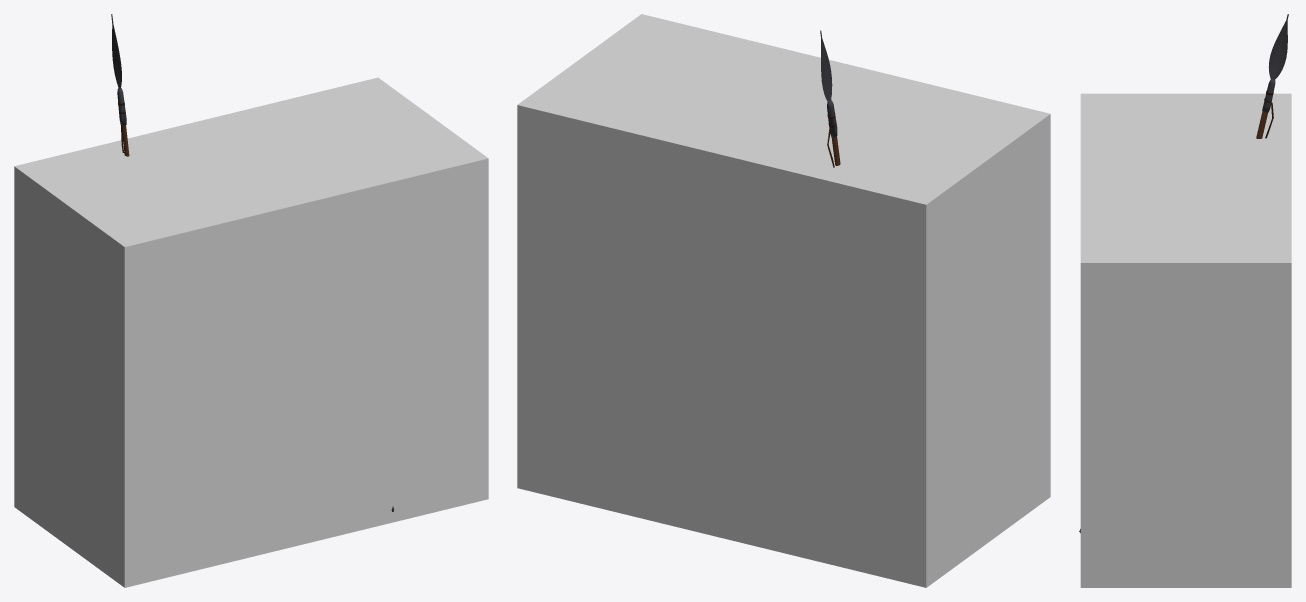
The model's file is weapon_rack_intact.glb.
3 views of the same model, side by side, from view 1: azimuth 30°, elevation 25°; view 2: azimuth 150°, elevation 25°; view 3: azimuth 270°, elevation 25° (orthographic). The views are drawn at different scales.
Parts seen in each view (by area): view 1: col_click, loot_spear; view 2: col_click, loot_spear; view 3: col_click, loot_spear.
Part boxes in pixels (left/top/right/bottom): col_click: left=14, top=77, right=488, bottom=587; loot_spear: left=111, top=14, right=129, bottom=156; col_click: left=517, top=14, right=1050, bottom=587; loot_spear: left=820, top=30, right=840, bottom=167; col_click: left=1080, top=93, right=1291, bottom=587; loot_spear: left=1256, top=14, right=1288, bottom=138.
Size of the model in its own units: 1.9 by 2.36 by 1.01.
10 materials, 10 textured.
